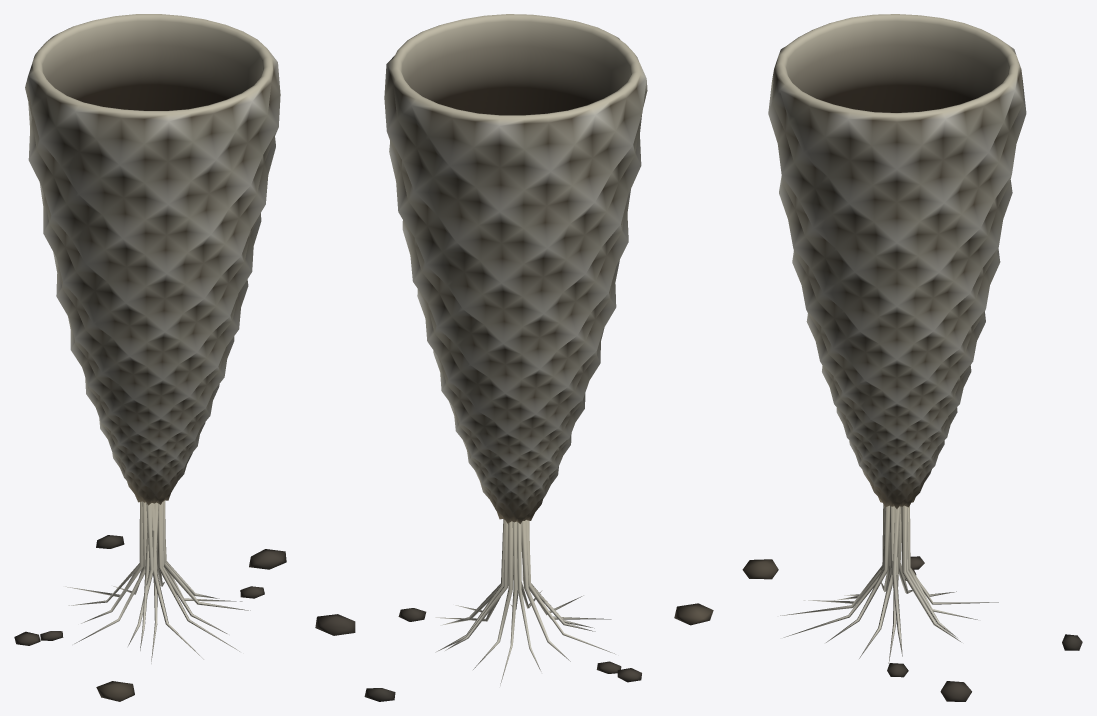
File: Diagoniella.fbx
The picture shows the model from 3 angles, left to right: view 1: azimuth 30°, elevation 25°; view 2: azimuth 150°, elevation 25°; view 3: azimuth 270°, elevation 25°; orthographic projection. The views are drawn at different scales.
Visible parts, largest first — view 1: Diagoniella; view 2: Diagoniella; view 3: Diagoniella.
Boxes of the visible parts, box(x1,y1,x2,y2) form: Diagoniella: box(14, 14, 286, 701); Diagoniella: box(315, 14, 713, 701); Diagoniella: box(742, 14, 1082, 701).
Size of the model in its own units: 0.9091 by 1.67 by 0.9139.
